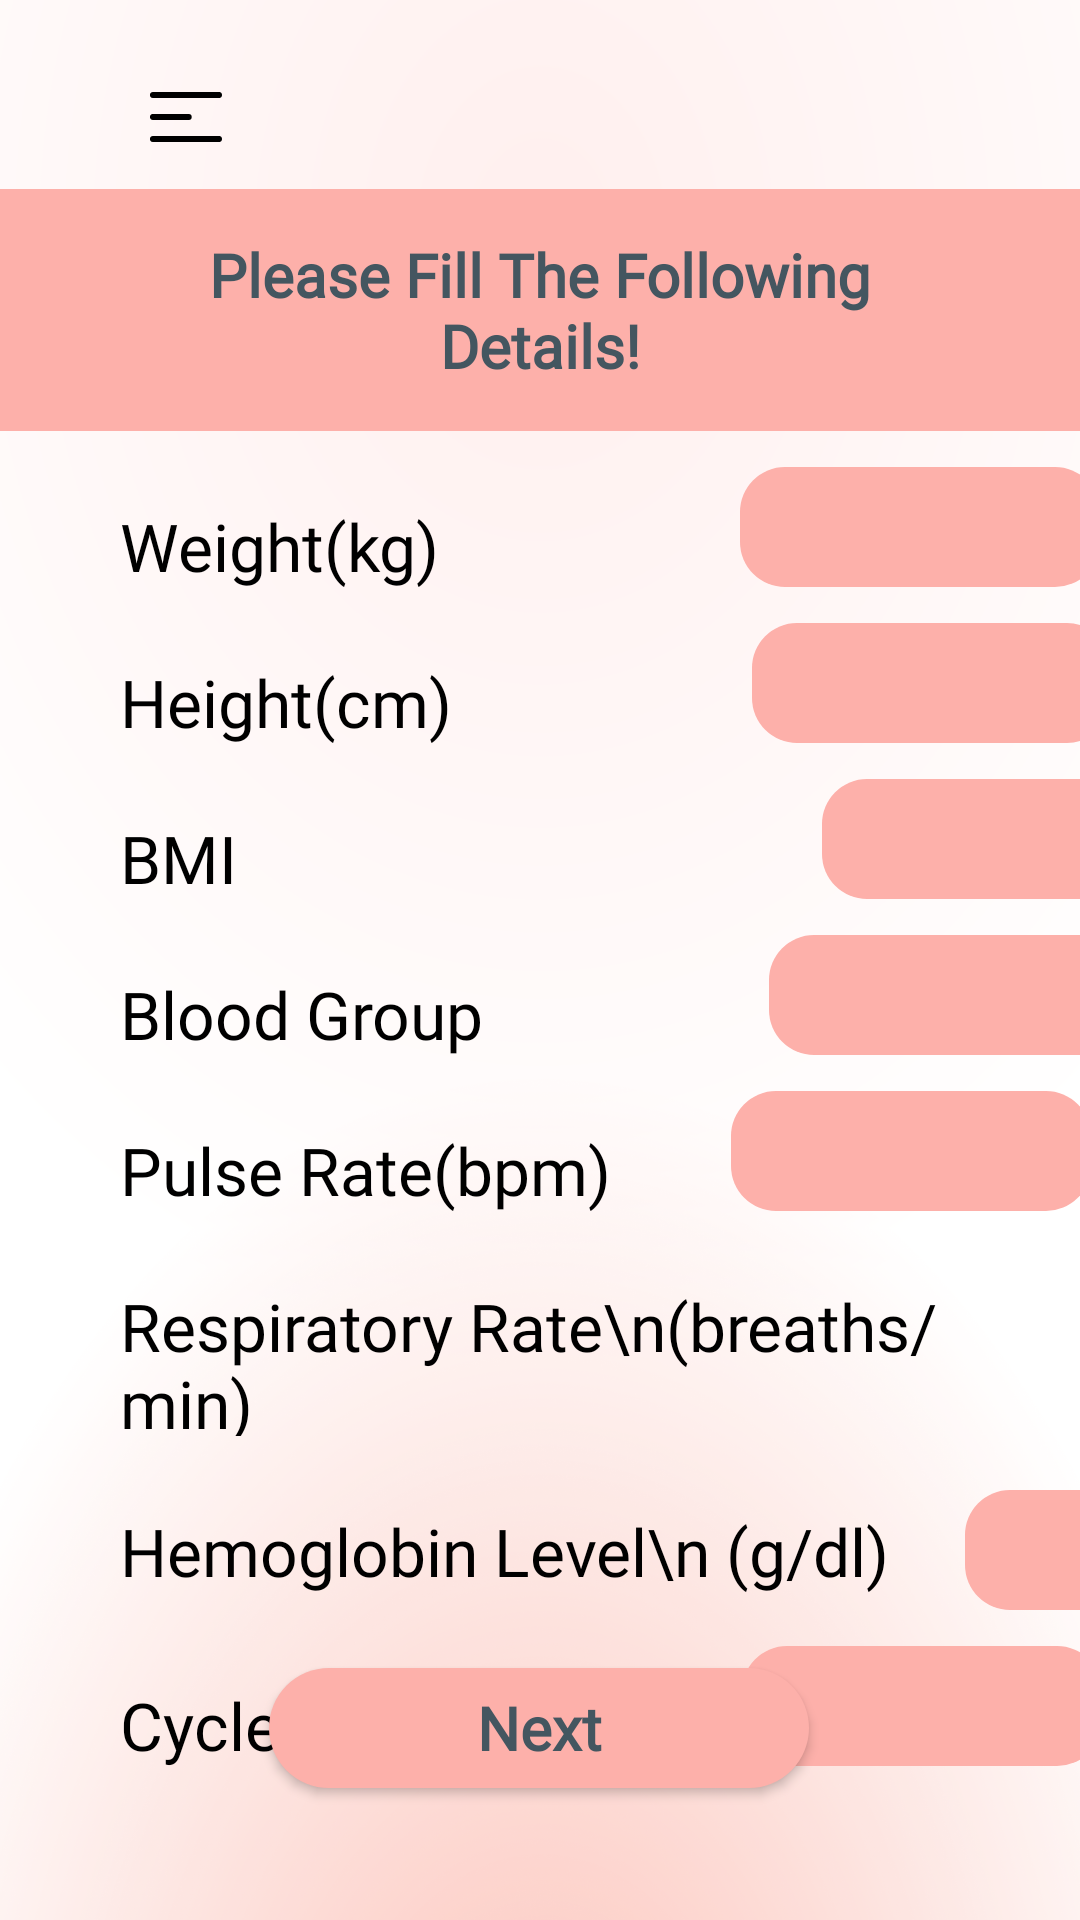

Named icons in this screenshot (1080px×1920px) and their bounding boxes, (x1,y1,x2,y2):
hamburger: (150,92,222,142)
